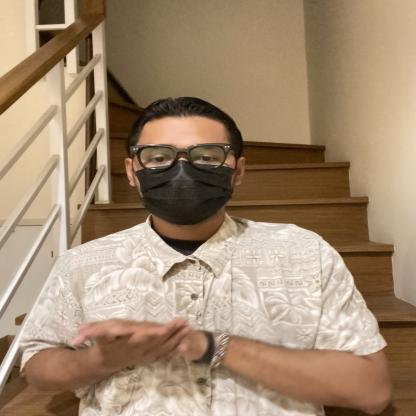Love: (56, 282, 291, 384)
